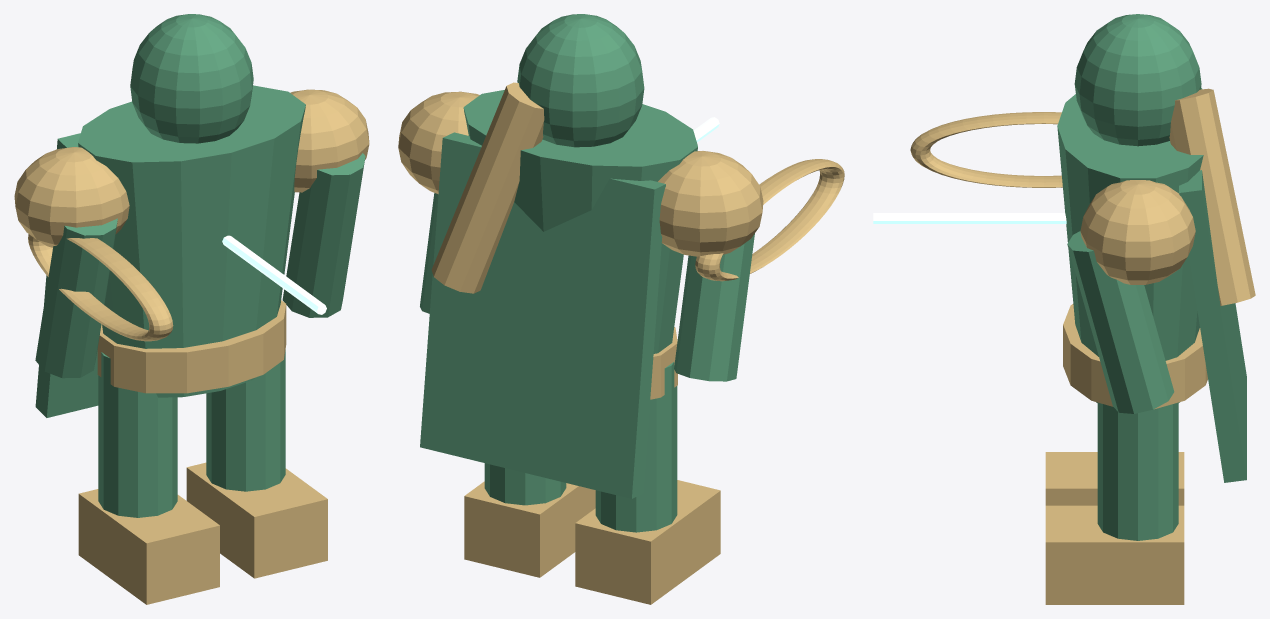
The model's file is hero_ranger.glb.
The picture shows the model from 3 angles, left to right: view 1: azimuth 30°, elevation 25°; view 2: azimuth 150°, elevation 25°; view 3: azimuth 270°, elevation 25°; orthographic projection. The views are drawn at different scales.
Visible parts, largest first — view 1: Cone, Sphere.002, Cube, Cube.001, Cylinder, Cylinder.002, Cylinder.001, Cylinder.004, Sphere, Cylinder.003, Sphere.001, Torus (+2 smaller); view 2: Cube.002, Cone, Sphere.002, Cube, Cylinder.005, Sphere, Cube.001, Cylinder.003, Cylinder, Torus, Sphere.001, Cylinder.001 (+2 smaller); view 3: Sphere.002, Cone, Cube.001, Cylinder.001, Cylinder.004, Sphere.001, Cube.002, Cylinder.005, Cylinder.002, Torus, Cube, Cylinder.006.
Boxes of the visible parts, x1,y1,x2,y2 form: Cone: [78, 85, 305, 397]; Sphere.002: [130, 14, 253, 143]; Cube: [78, 489, 219, 604]; Cube.001: [186, 462, 327, 578]; Cylinder: [98, 352, 177, 517]; Cylinder.002: [97, 300, 286, 393]; Cylinder.001: [206, 350, 285, 491]; Cylinder.004: [282, 153, 365, 317]; Sphere: [14, 147, 129, 247]; Cylinder.003: [35, 218, 117, 378]; Sphere.001: [290, 89, 369, 192]; Torus: [28, 234, 173, 341]; Cube.002: [420, 132, 665, 498]; Cone: [463, 90, 697, 353]; Sphere.002: [517, 14, 644, 147]; Cube: [575, 480, 720, 604]; Cylinder.005: [431, 82, 544, 293]; Sphere: [658, 151, 763, 256]; Cube.001: [464, 481, 595, 577]; Cylinder.003: [674, 233, 754, 381]; Cylinder: [595, 362, 677, 532]; Torus: [695, 159, 844, 281]; Sphere.001: [398, 91, 479, 194]; Cylinder.001: [484, 463, 566, 505]; Sphere.002: [1074, 14, 1201, 146]; Cone: [1057, 94, 1203, 402]; Cube.001: [1045, 505, 1184, 604]; Cylinder.001: [1097, 402, 1178, 540]; Cylinder.004: [1067, 231, 1174, 413]; Sphere.001: [1080, 180, 1195, 284]; Cube.002: [1179, 87, 1246, 482]; Cylinder.005: [1169, 88, 1255, 305]; Cylinder.002: [1063, 304, 1207, 409]; Torus: [910, 112, 1062, 187]; Cube: [1045, 452, 1184, 505]; Cylinder.006: [873, 213, 1066, 223].
Size of the model in its own units: 1.36 by 2.03 by 1.3.
